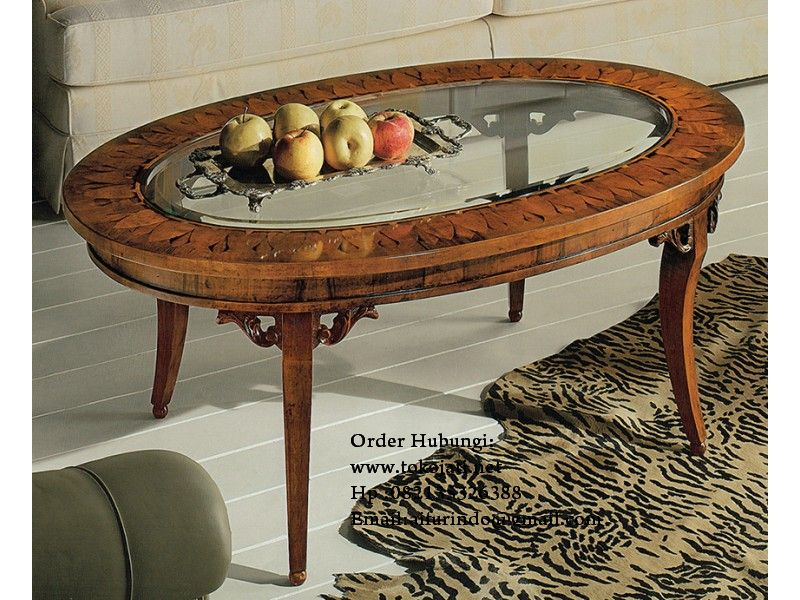Carving Table: (81, 92, 747, 508)
